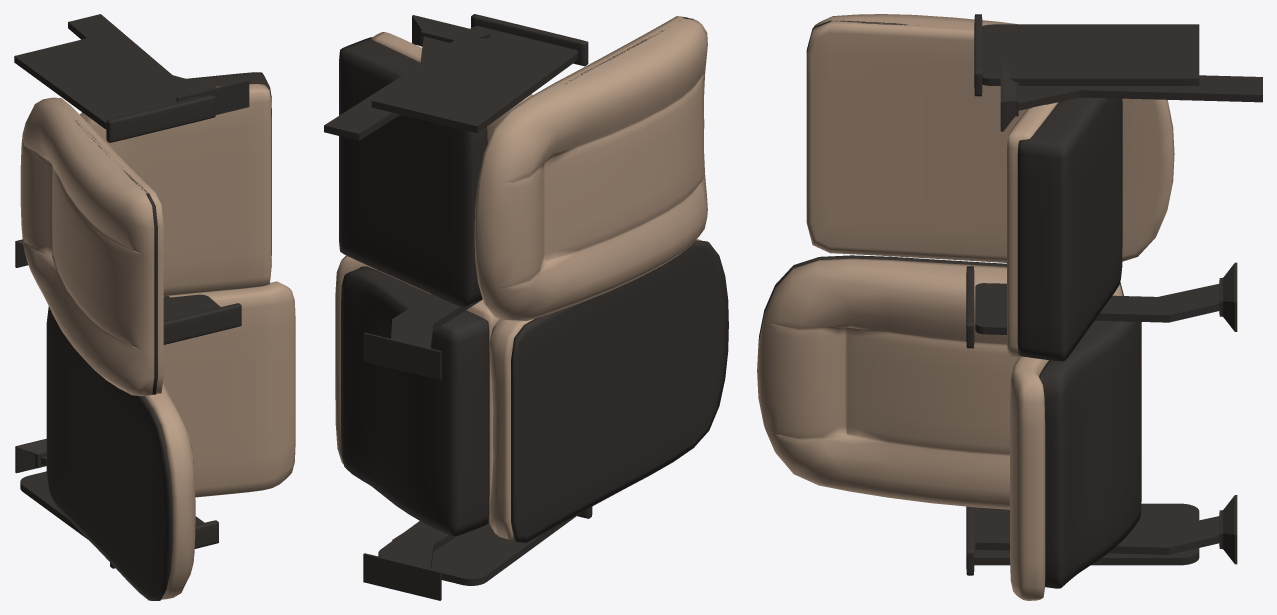
3 renders of one model, left to right at view 1: azimuth 30°, elevation 25°; view 2: azimuth 150°, elevation 25°; view 3: azimuth 270°, elevation 25°, orthographic. The views are drawn at different scales.
Visible parts, largest first — view 1: zjx04, zjx08, zjx05, zjx02, Rectangle01, zjx03, Line03, Box05, Box06, Line02, Rectangle02, zjx06 (+3 smaller); view 2: zjx04, zjx08, zjx01, zjx06, Rectangle01, Line02, zjx03, Rectangle02, Line01, Line03, zjx02, Box05 (+1 smaller); view 3: zjx03, zjx04, zjx06, zjx01, Rectangle01, zjx02, Line02, Line03, Line01, Rectangle02, zjx05, zjx08 (+2 smaller).
Part boxes in pixels (left/top/right/bottom): zjx04: left=20, top=97, right=163, bottom=395; zjx08: left=46, top=306, right=172, bottom=600; zjx05: left=80, top=83, right=271, bottom=296; zjx02: left=163, top=281, right=295, bottom=497; Rectangle01: left=14, top=32, right=200, bottom=131; zjx03: left=145, top=382, right=195, bottom=599; Line03: left=68, top=14, right=249, bottom=114; Box05: left=106, top=94, right=215, bottom=142; Box06: left=163, top=303, right=241, bottom=344; Line02: left=15, top=239, right=220, bottom=320; Rectangle02: left=20, top=471, right=204, bottom=539; zjx06: left=186, top=72, right=271, bottom=267; zjx04: left=474, top=16, right=707, bottom=321; zjx08: left=511, top=240, right=728, bottom=542; zjx01: left=341, top=266, right=489, bottom=536; zjx06: left=339, top=37, right=487, bottom=306; Rectangle01: left=371, top=26, right=577, bottom=133; Line02: left=363, top=294, right=482, bottom=379; zjx03: left=489, top=239, right=702, bottom=540; Rectangle02: left=378, top=512, right=581, bottom=585; Line01: left=363, top=521, right=457, bottom=600; Line03: left=324, top=15, right=490, bottom=140; zjx02: left=335, top=255, right=499, bottom=522; Box05: left=471, top=14, right=588, bottom=66; zjx03: left=757, top=258, right=1122, bottom=509; zjx04: left=806, top=14, right=1174, bottom=262; zjx06: left=1017, top=97, right=1122, bottom=361; zjx01: left=1039, top=320, right=1141, bottom=588; Rectangle01: left=982, top=24, right=1199, bottom=85; zjx02: left=1010, top=357, right=1048, bottom=600; Line02: left=975, top=262, right=1237, bottom=334; Line03: left=1000, top=62, right=1262, bottom=131; Line01: left=975, top=495, right=1237, bottom=564; Rectangle02: left=974, top=503, right=1199, bottom=565; zjx05: left=1007, top=102, right=1057, bottom=356; zjx08: left=758, top=255, right=1123, bottom=340.
Bounding box in the file's own units: 24.99 × 40.81 × 37.17.
